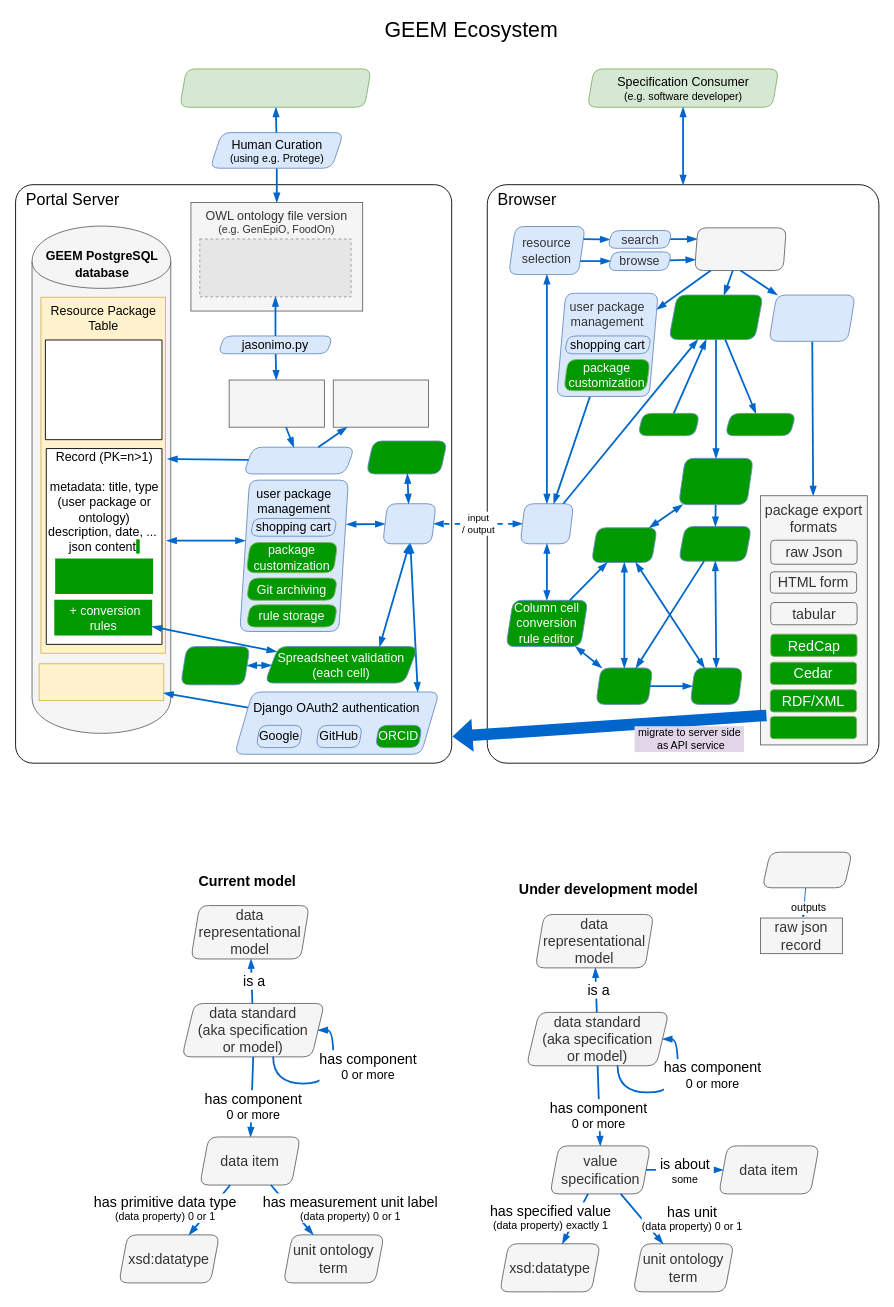
Some shapes in this 894 by 1307 pixel diagram are drawn without their labels. Grey dashed boxes stand in for pictures. The centre of each missing label's shape, as x and y in pixels:
"+ customization annotations" belongs at point (104, 576).
"API handler" belongs at point (546, 523).
"Column editor" belongs at point (624, 685).
"Demo Form" belongs at point (806, 869).
"Django API" belongs at point (409, 523).
"Django User Table" belongs at point (101, 682).
"download" belongs at point (760, 424).
"Error reporting" belongs at point (215, 665).
"Field editor" belongs at point (716, 685).
"GEEM ontology package file" belongs at point (276, 403).
"GEEM package backup file" belongs at point (380, 403).
"IRIDA" belongs at point (813, 727).
"LexMapr integration" belongs at point (406, 457).
"manage.py" belongs at point (299, 460).
"New Record Template (PK=1) metadata: title, description, date, ... json content" belongs at point (103, 389).
"Ontology Curator (e.g. Hsiao Lab or other agency staff)" belongs at point (275, 87).
"Ontology Layer" belongs at point (624, 544).
"rendering (AgGrid)" belongs at point (715, 481).
"Reporting Layer" belongs at point (715, 543).
"specification format generator" belongs at point (811, 317).
"specification package" belongs at point (740, 249).
"Spreadsheet validation" belongs at point (715, 317).
"upload" belongs at point (668, 424).
